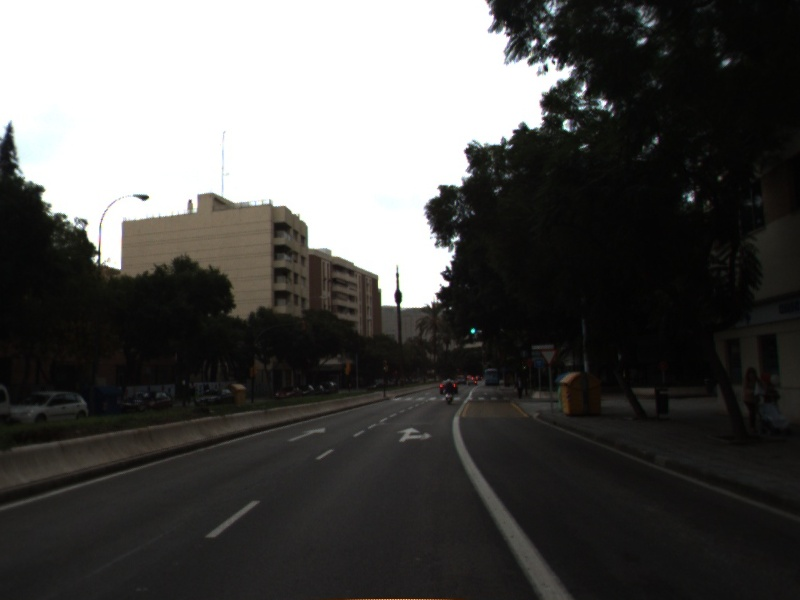STRAIGHT: (286, 425, 327, 443)
STRAIGHT_RIGHT: (395, 425, 435, 444)
